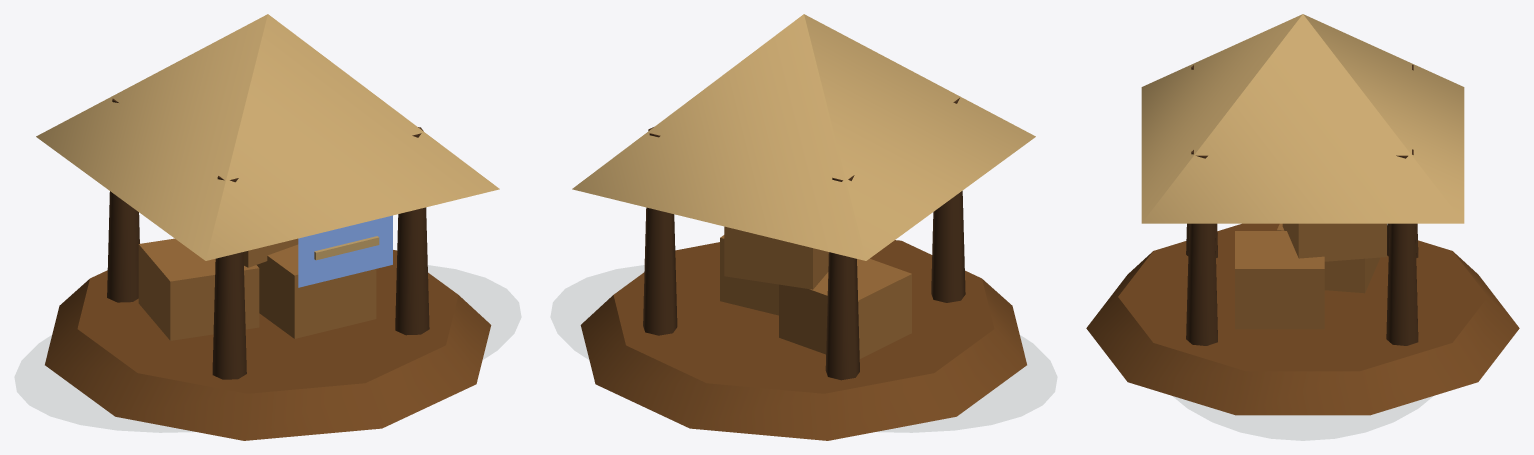
The model's file is tribe_storage.glb.
3 views of the same model, side by side, from view 1: azimuth 30°, elevation 25°; view 2: azimuth 150°, elevation 25°; view 3: azimuth 270°, elevation 25° (orthographic). The views are drawn at different scales.
Visible parts, largest first — view 1: thatched_roof, raised_round_platform, stacked_crate_0, stacked_crate_1, soft_ground_shadow, hanging_hide_banner, storage_post_1, storage_post_0, storage_post_2, stacked_crate_2, banner_paint_stroke; view 2: thatched_roof, raised_round_platform, stacked_crate_0, soft_ground_shadow, stacked_crate_2, storage_post_2, storage_post_3, storage_post_1, stacked_crate_1; view 3: thatched_roof, raised_round_platform, stacked_crate_1, storage_post_3, storage_post_0, stacked_crate_2, soft_ground_shadow, stacked_crate_0.
Part boxes in pixels (x1,y1,x2,y2): thatched_roof: (36, 14, 499, 260); raised_round_platform: (45, 250, 491, 440); stacked_crate_0: (138, 238, 259, 340); stacked_crate_1: (257, 244, 376, 338); soft_ground_shadow: (15, 266, 520, 432); hanging_hide_banner: (298, 215, 392, 287); storage_post_1: (212, 176, 246, 379); storage_post_0: (395, 127, 429, 335); storage_post_2: (107, 98, 139, 302); stacked_crate_2: (243, 238, 298, 267); banner_paint_stroke: (314, 236, 379, 260); thatched_roof: (572, 14, 1035, 260); raised_round_platform: (580, 240, 1026, 440); stacked_crate_0: (779, 258, 911, 358); soft_ground_shadow: (551, 266, 1056, 432); stacked_crate_2: (724, 226, 828, 289); storage_post_2: (825, 175, 859, 380); storage_post_3: (643, 127, 677, 335); storage_post_1: (931, 98, 965, 302); stacked_crate_1: (720, 235, 778, 315); thatched_roof: (1141, 14, 1464, 223); raised_round_platform: (1086, 223, 1519, 415); stacked_crate_1: (1235, 231, 1324, 329); storage_post_3: (1386, 149, 1418, 345); storage_post_0: (1186, 150, 1217, 345); stacked_crate_2: (1282, 223, 1386, 261); soft_ground_shadow: (1175, 397, 1429, 440); stacked_crate_0: (1277, 223, 1379, 293).
Bounding box in the file's own units: 3.63 × 2.42 × 3.
